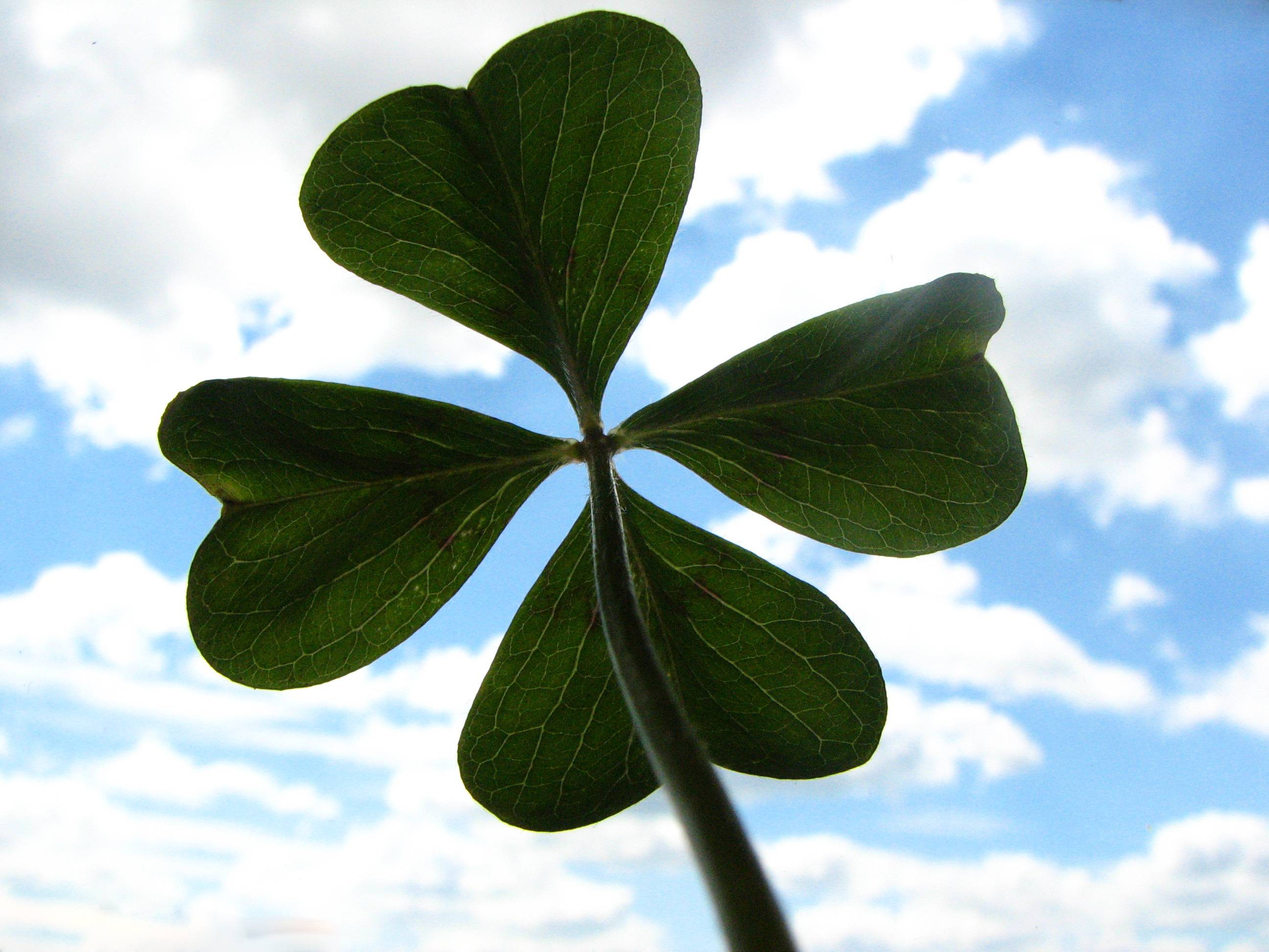daikon: (136, 4, 1039, 888)
